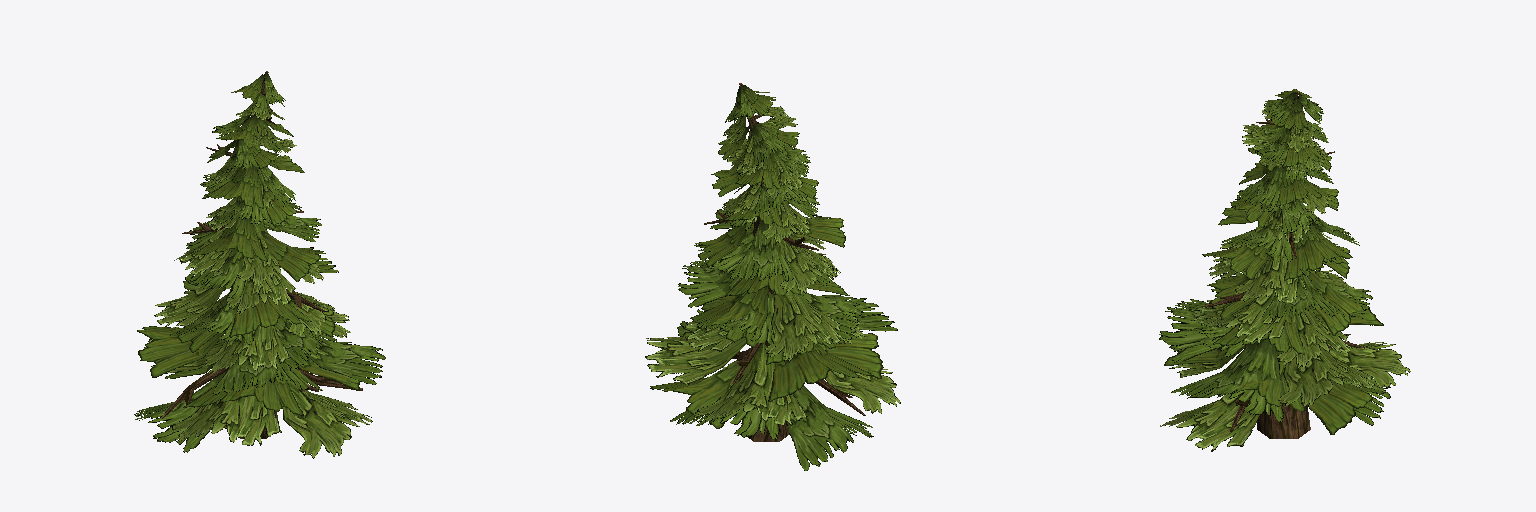
3 views of the same model, side by side, from view 1: azimuth 30°, elevation 25°; view 2: azimuth 150°, elevation 25°; view 3: azimuth 270°, elevation 25° (orthographic).
Visible parts, largest first — view 1: Leaves_03_pine_texture_improved.159, trunk_03_Cylinder.020; view 2: Leaves_03_pine_texture_improved.159, trunk_03_Cylinder.020; view 3: Leaves_03_pine_texture_improved.159, trunk_03_Cylinder.020.
Part boxes in pixels (left/top/right/bottom): Leaves_03_pine_texture_improved.159: left=134, top=74, right=385, bottom=458; trunk_03_Cylinder.020: left=161, top=71, right=362, bottom=438; Leaves_03_pine_texture_improved.159: left=645, top=85, right=900, bottom=470; trunk_03_Cylinder.020: left=704, top=83, right=865, bottom=441; Leaves_03_pine_texture_improved.159: left=1159, top=89, right=1410, bottom=451; trunk_03_Cylinder.020: left=1204, top=91, right=1364, bottom=438.
Bounding box in the file's own units: 5.5 × 7.31 × 5.31.
1 materials, 1 textured.